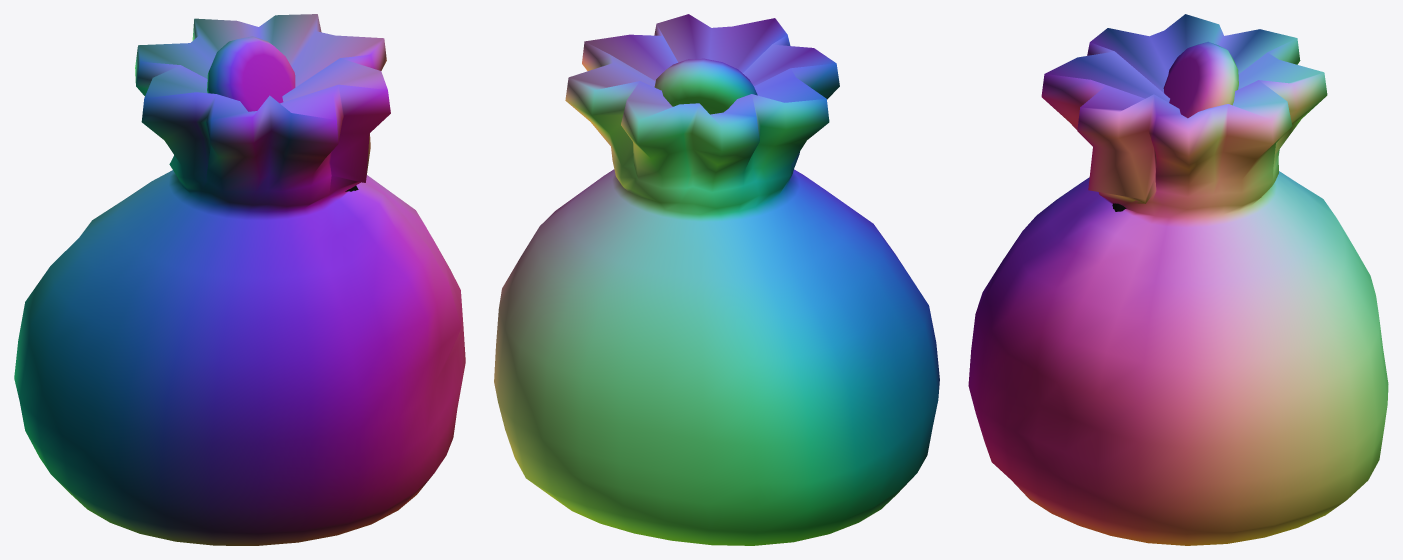
File: SM_Loot_Bag.fbx
The picture shows the model from 3 angles, left to right: view 1: azimuth 30°, elevation 25°; view 2: azimuth 150°, elevation 25°; view 3: azimuth 270°, elevation 25°; orthographic projection.
Parts seen in each view (by area): view 1: SM_Loot_Bag; view 2: SM_Loot_Bag; view 3: SM_Loot_Bag.
Boxes of the visible parts, <box> form: SM_Loot_Bag: <box>14,14,465,545</box>; SM_Loot_Bag: <box>494,14,939,545</box>; SM_Loot_Bag: <box>968,14,1388,545</box>.
Bounding box in the file's own units: 0.4128 × 0.4326 × 0.3804.
